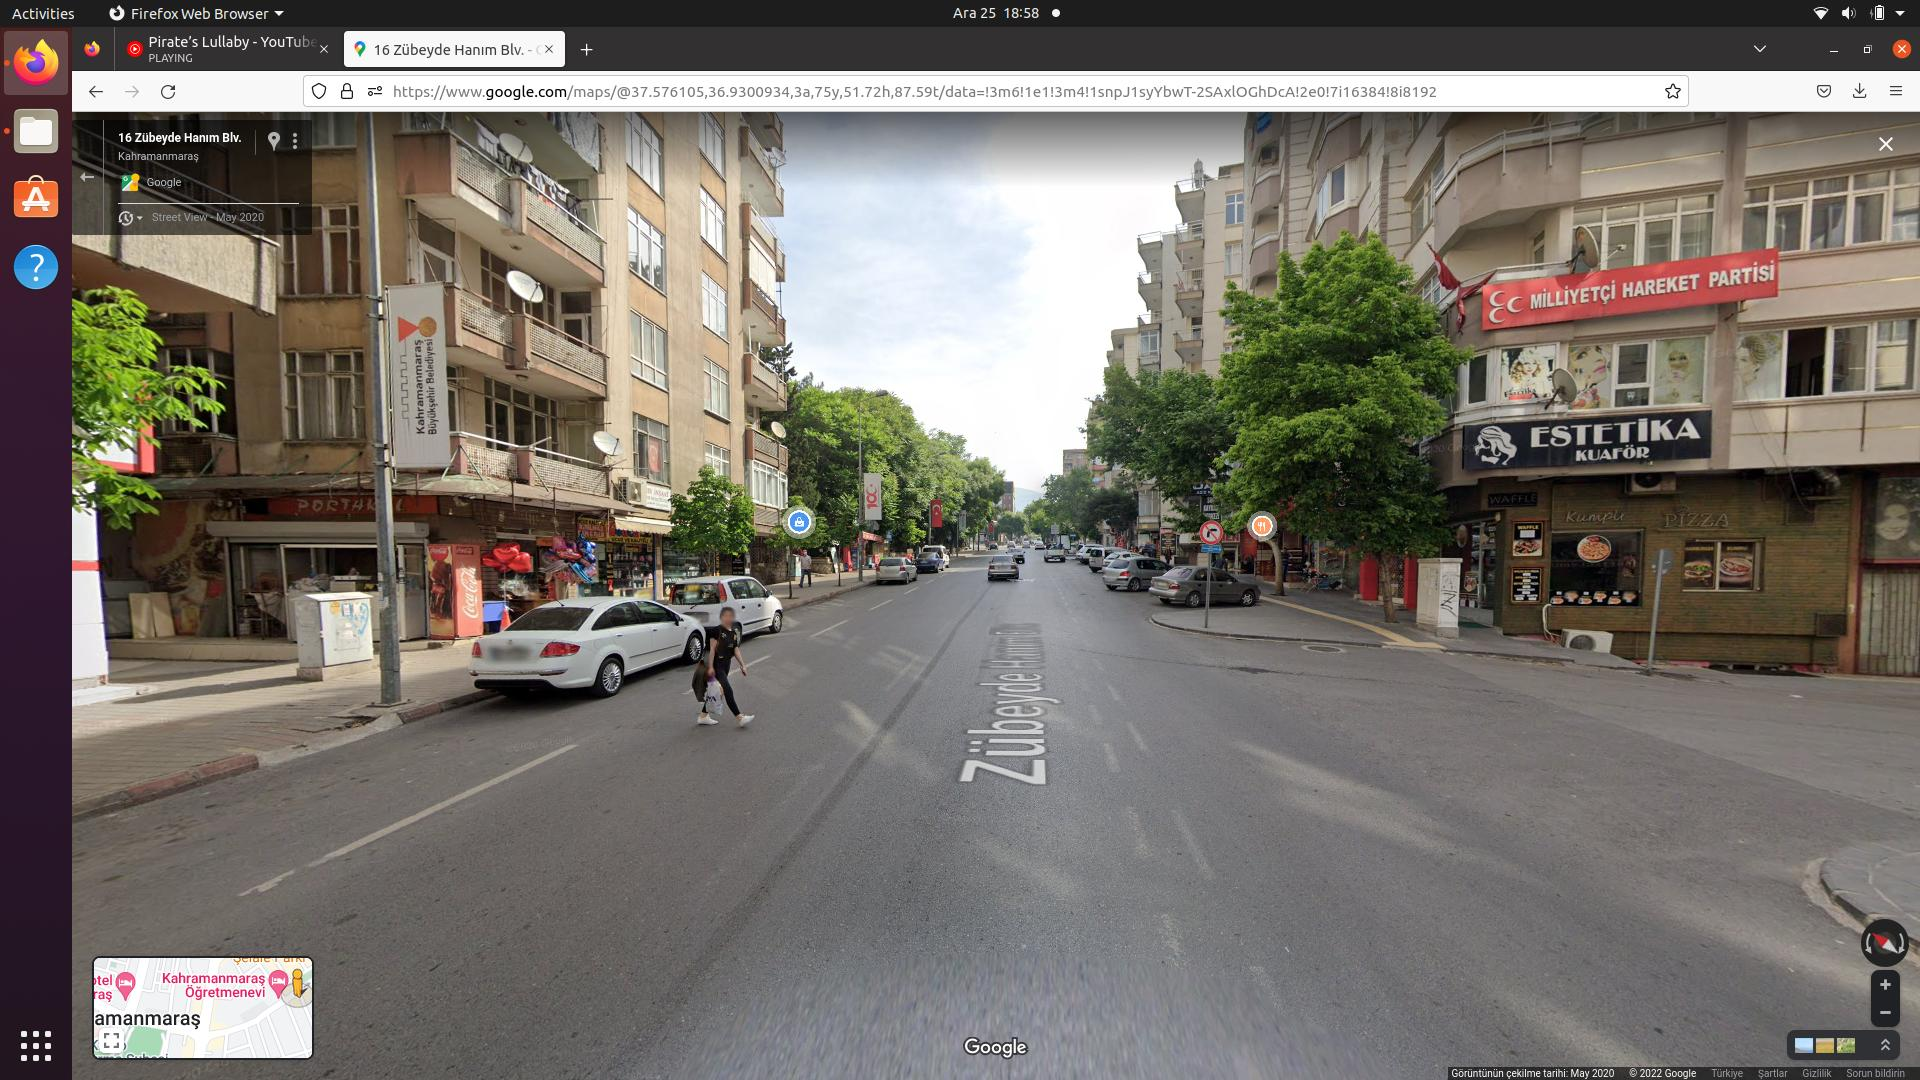rightturnsareforbidden: (1200, 517, 1224, 546)
